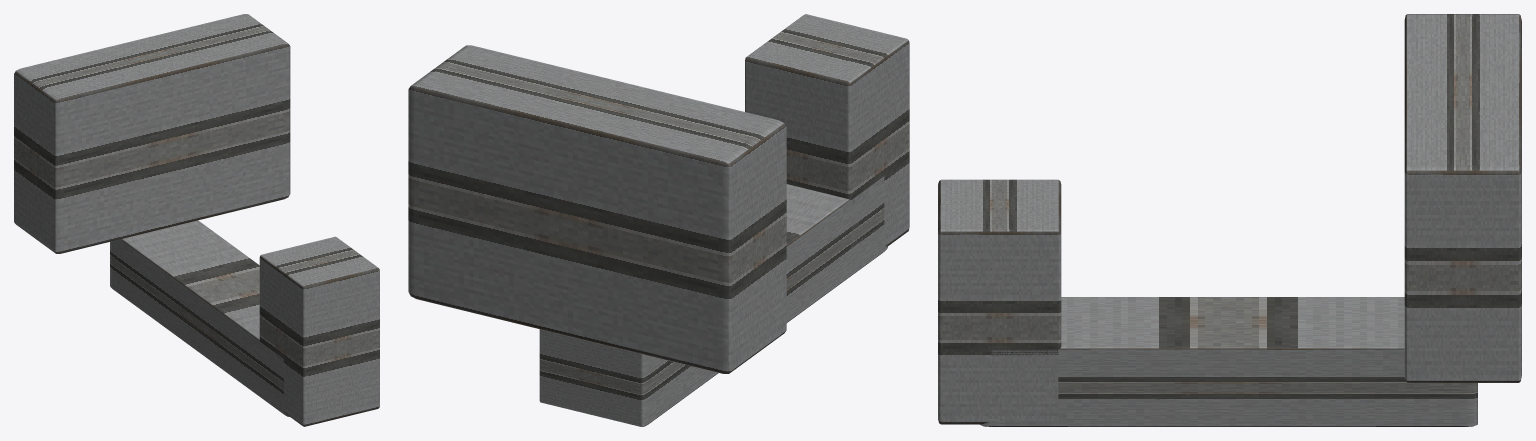
File: helmet-rest.glb
3 views of the same model, side by side, from view 1: azimuth 30°, elevation 25°; view 2: azimuth 150°, elevation 25°; view 3: azimuth 270°, elevation 25° (orthographic). The views are drawn at different scales.
Visible parts, largest first — view 1: foot, lip, arm; view 2: foot, lip, arm; view 3: arm, foot, lip.
Part boxes in pixels (box(x1,y1,x2,y2)): foot: box(14, 14, 290, 253); lip: box(259, 236, 379, 426); arm: box(110, 220, 289, 416); foot: box(408, 45, 786, 373); lip: box(745, 14, 909, 266); arm: box(539, 176, 887, 426); arm: box(980, 297, 1477, 426); foot: box(1404, 14, 1521, 382); lip: box(938, 179, 1061, 424).
Bounding box in the file's own units: 0.154 × 0.1404 × 0.2388.
1 material, 1 textured.
